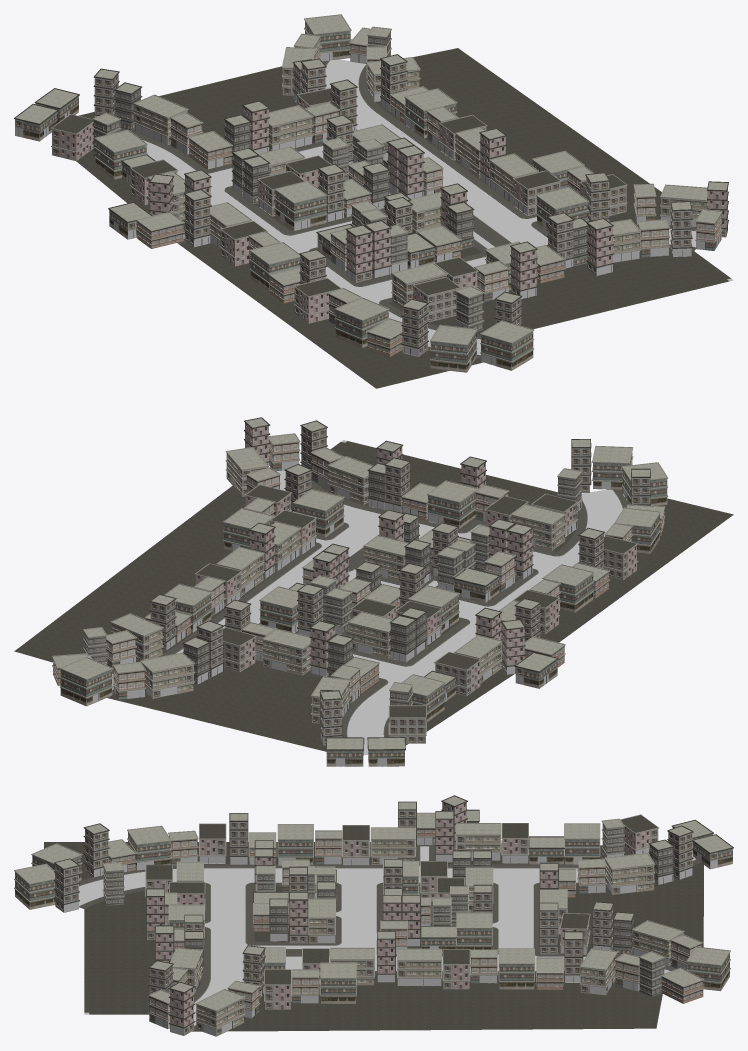
Rendered from Prebuilt_Chinatown.FBX.
3 renders of one model, top to bottom at view 1: azimuth 30°, elevation 25°; view 2: azimuth 150°, elevation 25°; view 3: azimuth 270°, elevation 25°, orthographic. The views are drawn at different scales.
Parts seen in each view (by area): view 1: CT_Road_Straight_004, CT_door_151, CT_door_047, CT_door_132, CT_door_116, CT_door_088, CT_door_143, CT_door_127, CT_door_150, CT_door_156, CT_door_103, CT_door_071 (+80 smaller); view 2: CT_Road_Straight_004, CT_door_156, CT_door_136, CT_door_084, CT_door_088, CT_door_079, CT_door_121, CT_door_051, CT_door_098, CT_door_103, CT_door_151, CT_door_063 (+75 smaller); view 3: CT_Road_Straight_004, CT_door_143, CT_door_142, CT_door_091, CT_door_151, CT_door_106, CT_door_094, CT_door_124, CT_door_116, CT_door_138, CT_door_156, CT_door_136 (+80 smaller).
Boxes of the visible parts, left/top/right/bottom form: CT_Road_Straight_004: left=76, top=48, right=733, bottom=388; CT_door_151: left=480, top=320, right=534, bottom=370; CT_door_047: left=274, top=180, right=327, bottom=230; CT_door_132: left=430, top=324, right=477, bottom=372; CT_door_116: left=334, top=297, right=389, bottom=347; CT_door_088: left=269, top=105, right=313, bottom=151; CT_door_143: left=133, top=94, right=188, bottom=145; CT_door_127: left=94, top=129, right=147, bottom=179; CT_door_150: left=51, top=114, right=93, bottom=160; CT_door_156: left=304, top=14, right=351, bottom=61; CT_door_103: left=249, top=242, right=300, bottom=291; CT_door_071: left=345, top=224, right=373, bottom=282; CT_Road_Straight_004: left=14, top=440, right=733, bottom=755; CT_door_156: left=59, top=657, right=113, bottom=706; CT_door_136: left=140, top=652, right=194, bottom=698; CT_door_084: left=427, top=480, right=478, bottom=529; CT_door_088: left=261, top=628, right=310, bottom=675; CT_door_079: left=511, top=504, right=566, bottom=551; CT_door_121: left=327, top=456, right=373, bottom=504; CT_door_051: left=347, top=611, right=393, bottom=658; CT_door_098: left=293, top=489, right=344, bottom=537; CT_door_103: left=542, top=564, right=594, bottom=612; CT_door_151: left=592, top=445, right=633, bottom=489; CT_door_063: left=259, top=586, right=297, bottom=632; CT_Road_Straight_004: left=44, top=842, right=703, bottom=1031; CT_door_143: left=604, top=853, right=655, bottom=894; CT_door_142: left=195, top=989, right=245, bottom=1036; CT_door_091: left=397, top=948, right=441, bottom=986; CT_door_151: left=14, top=863, right=55, bottom=909; CT_door_106: left=370, top=827, right=415, bottom=864; CT_door_094: left=498, top=948, right=534, bottom=989; CT_door_124: left=320, top=962, right=356, bottom=1003; CT_door_116: left=127, top=825, right=171, bottom=870; CT_door_138: left=579, top=948, right=617, bottom=995; CT_door_156: left=686, top=946, right=730, bottom=991; CT_door_136: left=631, top=920, right=684, bottom=966.
Bounding box in the file's own units: 14642 × 1438 × 21140.
